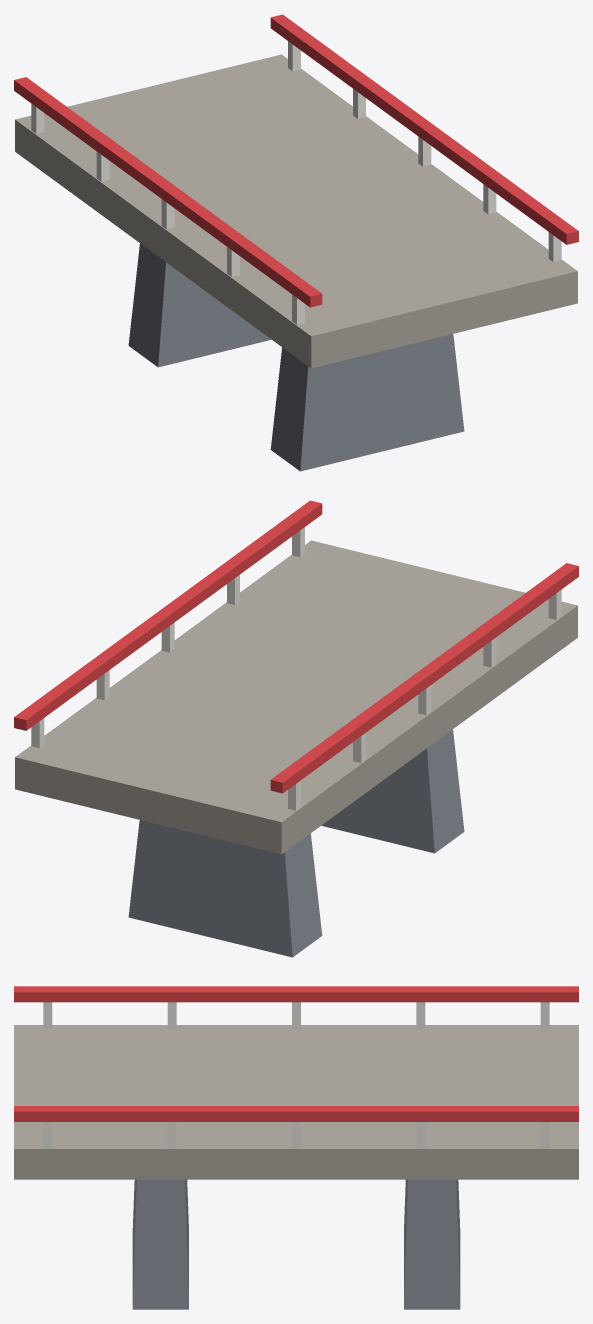
Rendered from bridge.glb.
The picture shows the model from 3 angles, top to bottom: view 1: azimuth 30°, elevation 25°; view 2: azimuth 150°, elevation 25°; view 3: azimuth 270°, elevation 25°; orthographic projection. The views are drawn at different scales.
Parts seen in each view (by area): view 1: bridge; view 2: bridge; view 3: bridge.
Boxes of the visible parts, x1,y1,x2,y2 form: bridge: (14,14,578,471); bridge: (14,500,578,957); bridge: (14,986,578,1309).
Size of the model in its own units: 2.62 by 2.17 by 5.
1 material, 1 textured.
